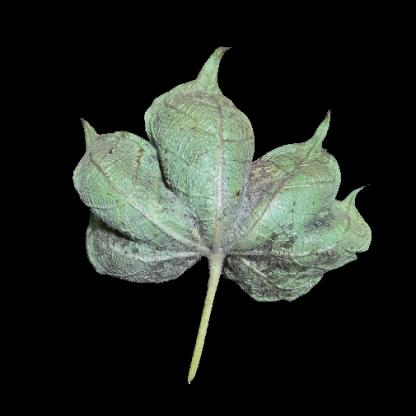curl_stage2: (158, 114, 238, 188), (82, 162, 163, 219), (188, 80, 222, 111)
sooty: (188, 189, 249, 261), (242, 249, 315, 298), (91, 223, 155, 278), (237, 161, 274, 234), (148, 232, 196, 279), (286, 146, 334, 188), (302, 207, 340, 242), (310, 243, 350, 272)
